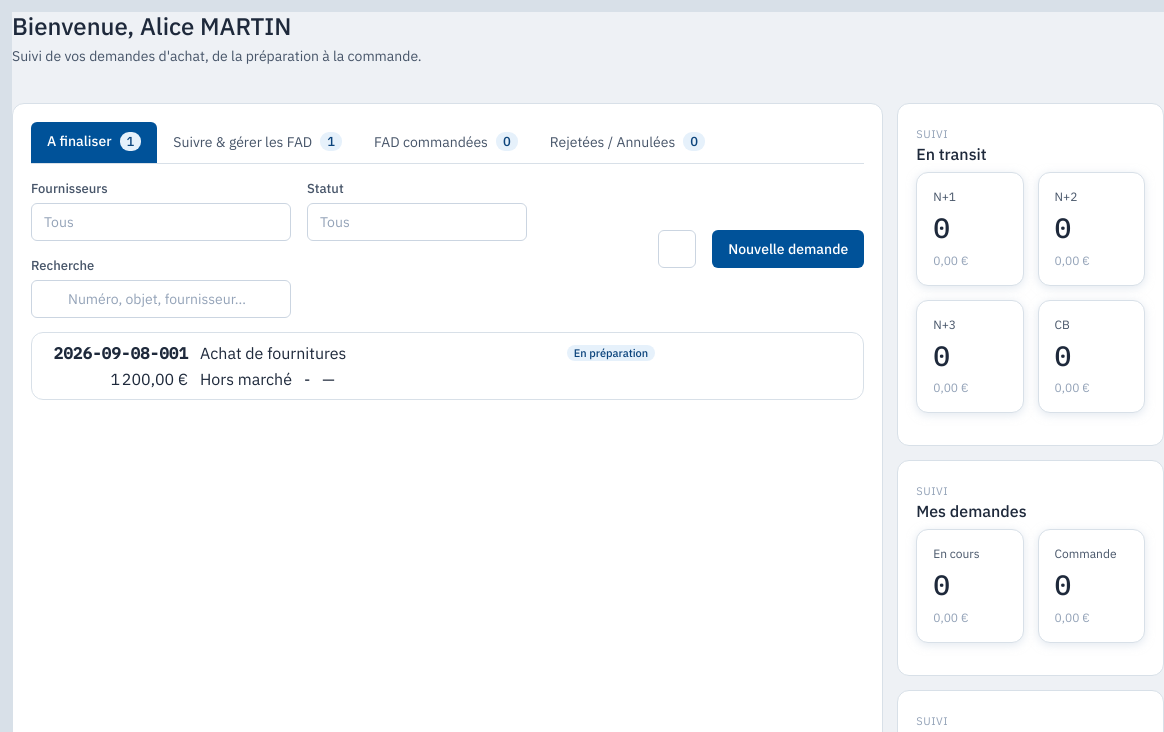
Home — onglets › changer d'onglet affiche la liste scopée correspondante et masque "Nouvelle demande"
Click the tab "Suivre & gérer les FAD 1": click(258, 143) [157,122,358,164]
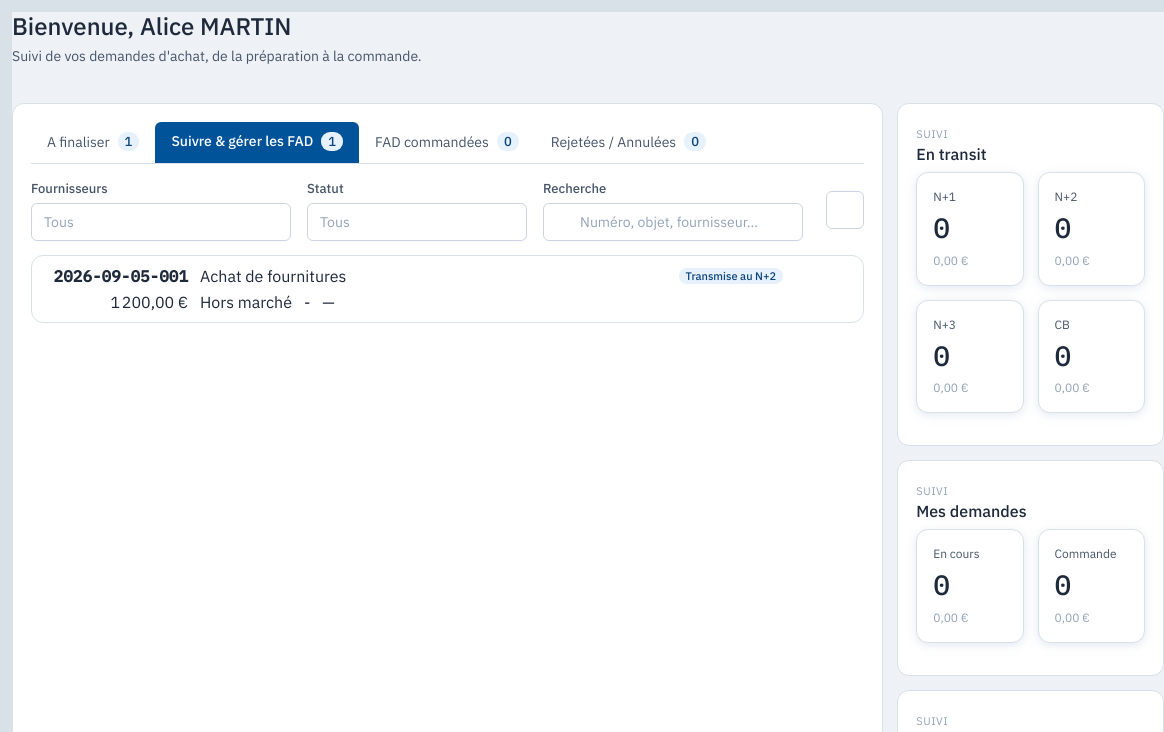
Expected: the text "2026-09-05-001" is shown, [48,266,188,286]
Expected: the text "2026-09-08-001" is gone
Expected: the button "Nouvelle demande" is gone
